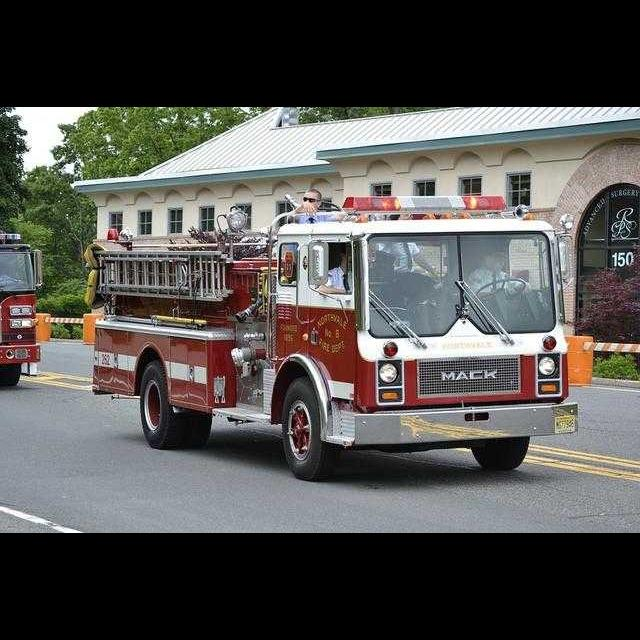emergency: (83, 194, 579, 481)
